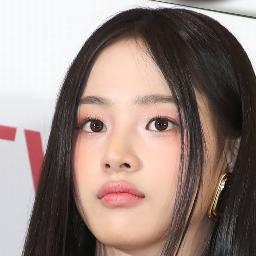face: (76, 48, 200, 246)
